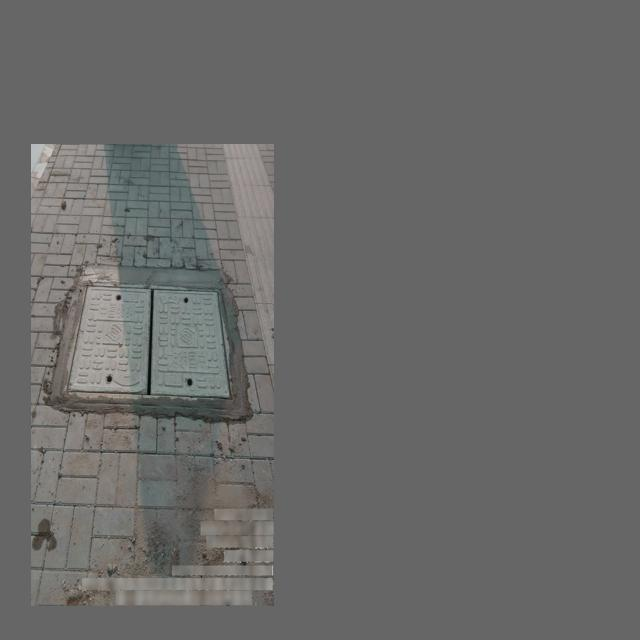good: (62, 283, 237, 400)
